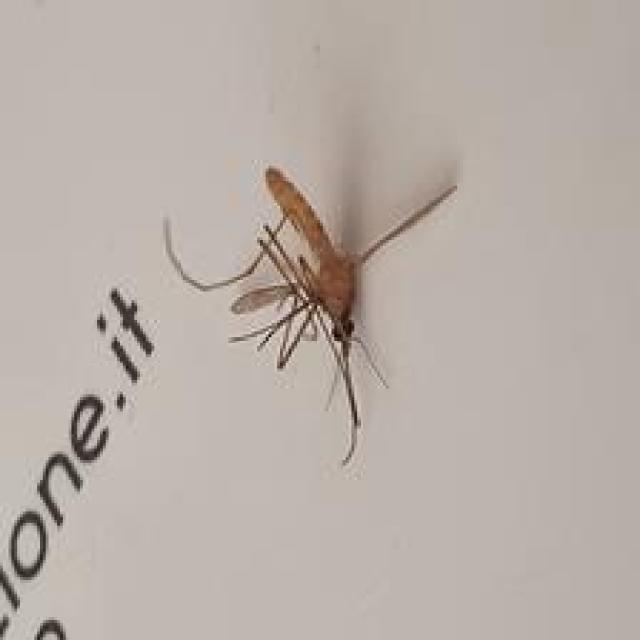Culex: (162, 163, 458, 466)
